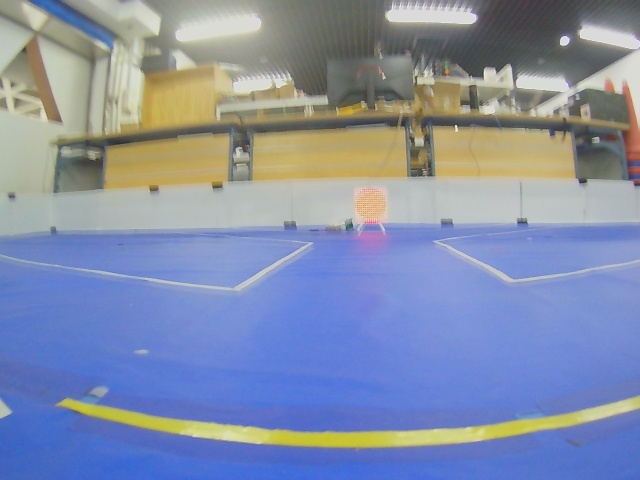red: (352, 183, 390, 223)
